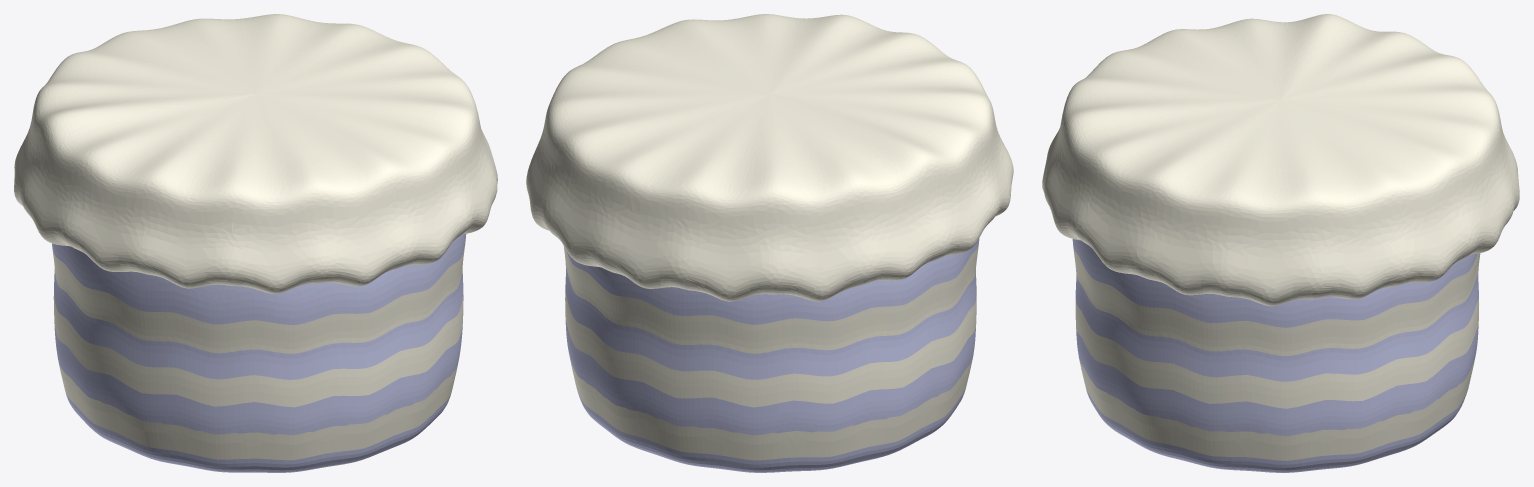
The model's file is purple-cake.glb.
3 renders of one model, left to right at view 1: azimuth 30°, elevation 25°; view 2: azimuth 150°, elevation 25°; view 3: azimuth 270°, elevation 25°, orthographic.
Visible parts, largest first — view 1: Cylinder.009, Cylinder.014; view 2: Cylinder.009, Cylinder.014; view 3: Cylinder.009, Cylinder.014.
Boxes of the visible parts, bbox=[...] form: Cylinder.009: bbox=[14, 14, 497, 293]; Cylinder.014: bbox=[52, 234, 466, 472]; Cylinder.009: bbox=[526, 14, 1013, 301]; Cylinder.014: bbox=[563, 238, 979, 472]; Cylinder.009: bbox=[1042, 14, 1519, 306]; Cylinder.014: bbox=[1072, 239, 1480, 472].
Size of the model in its own units: 12.93 by 9.28 by 12.92.
